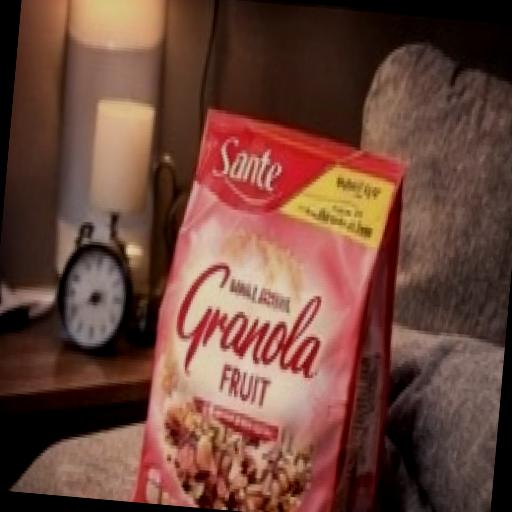granola: (115, 69, 424, 512)
